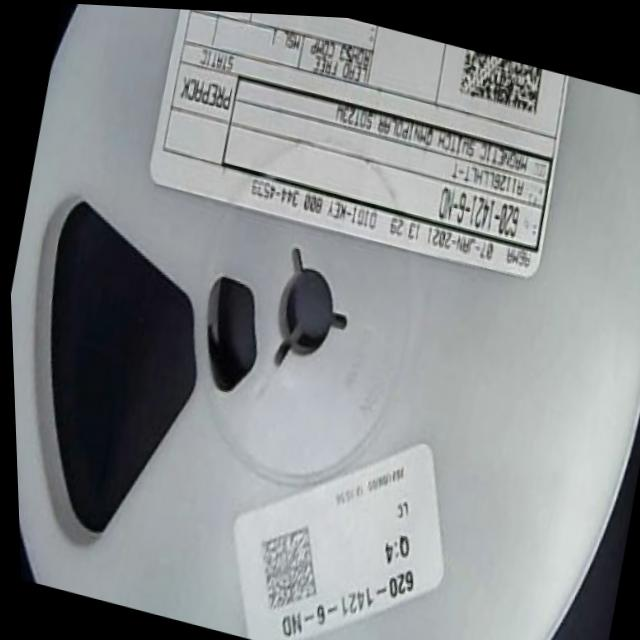datamatrix: (238, 510, 329, 621), (452, 42, 548, 117)
